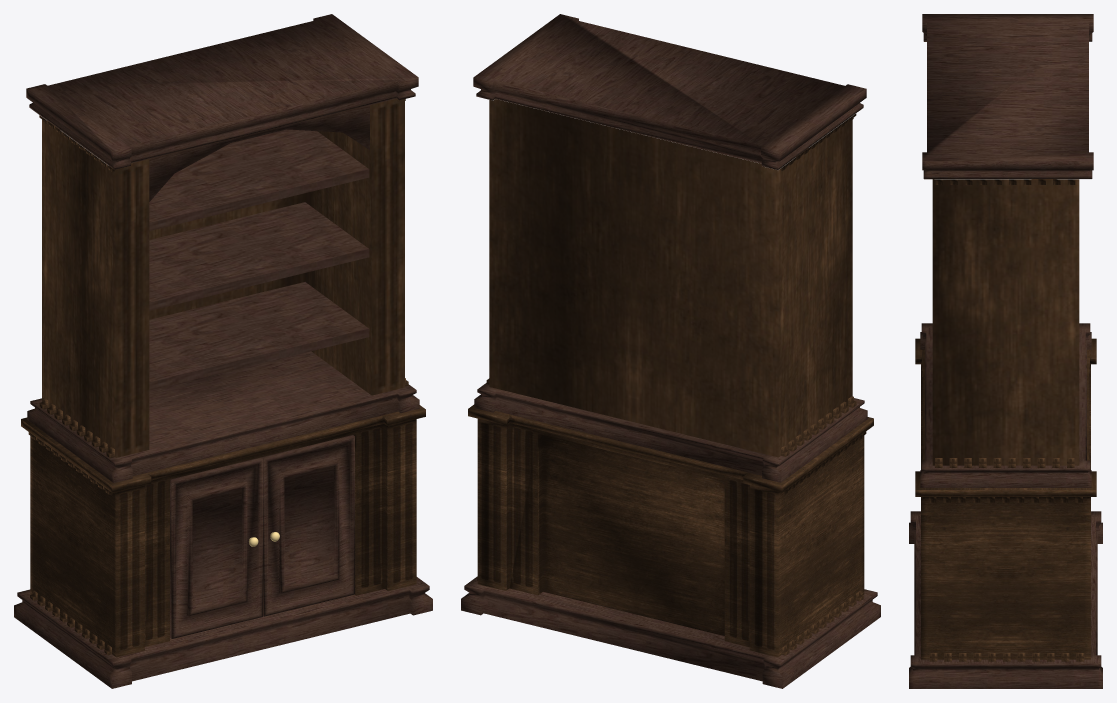
File: obj_vintage_shelving_d367f2.glb
The picture shows the model from 3 angles, left to right: view 1: azimuth 30°, elevation 25°; view 2: azimuth 150°, elevation 25°; view 3: azimuth 270°, elevation 25°; orthographic projection.
Visible parts, largest first — view 1: obj_vintage_shelving_d367f2; view 2: obj_vintage_shelving_d367f2; view 3: obj_vintage_shelving_d367f2.
Boxes of the visible parts, x1,y1,x2,y2 form: obj_vintage_shelving_d367f2: (14, 14, 432, 688); obj_vintage_shelving_d367f2: (461, 14, 880, 688); obj_vintage_shelving_d367f2: (909, 14, 1102, 688).
Bounding box in the file's own units: 1.27 × 2 × 0.6704.
1 material, 1 textured.
